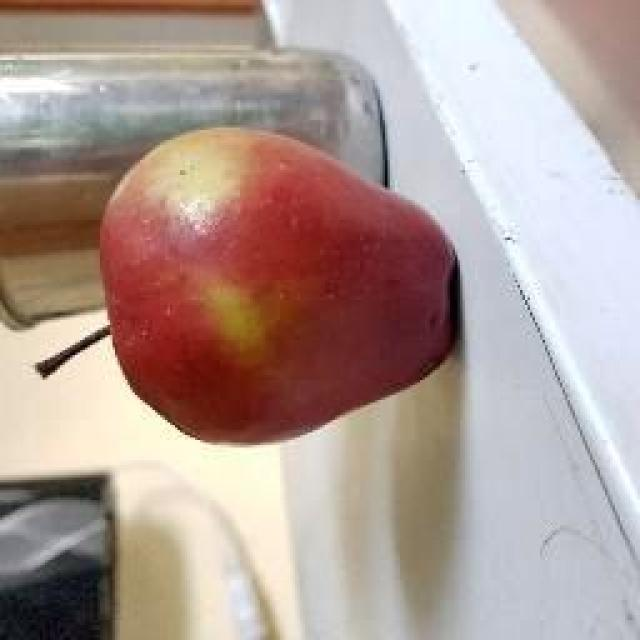Good_Apple: (98, 128, 462, 448)
